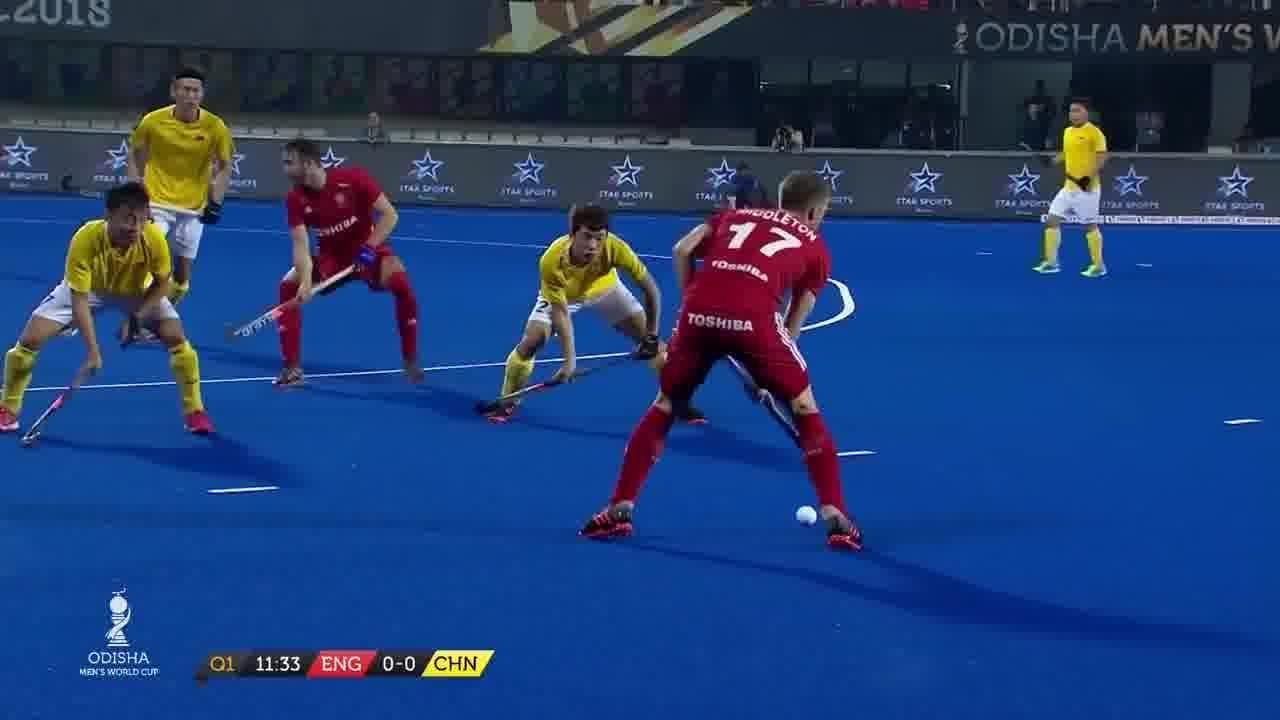ball: (790, 494, 828, 540)
